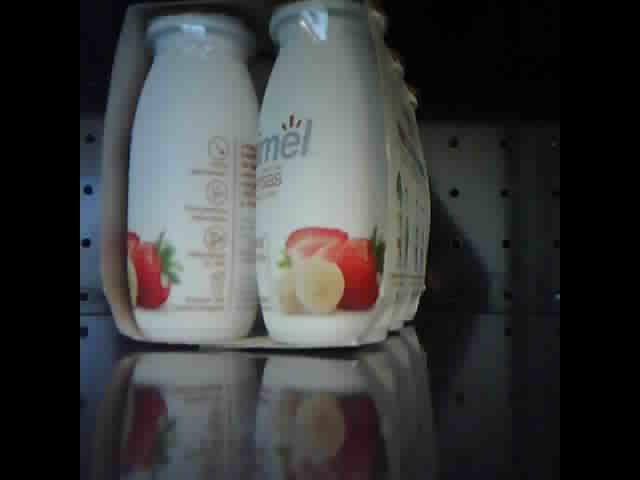actimel: (101, 1, 431, 355)
